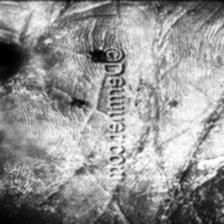Non-Cancerous Skin Condition: (0, 76, 94, 214), (146, 86, 224, 203), (83, 43, 104, 63)
